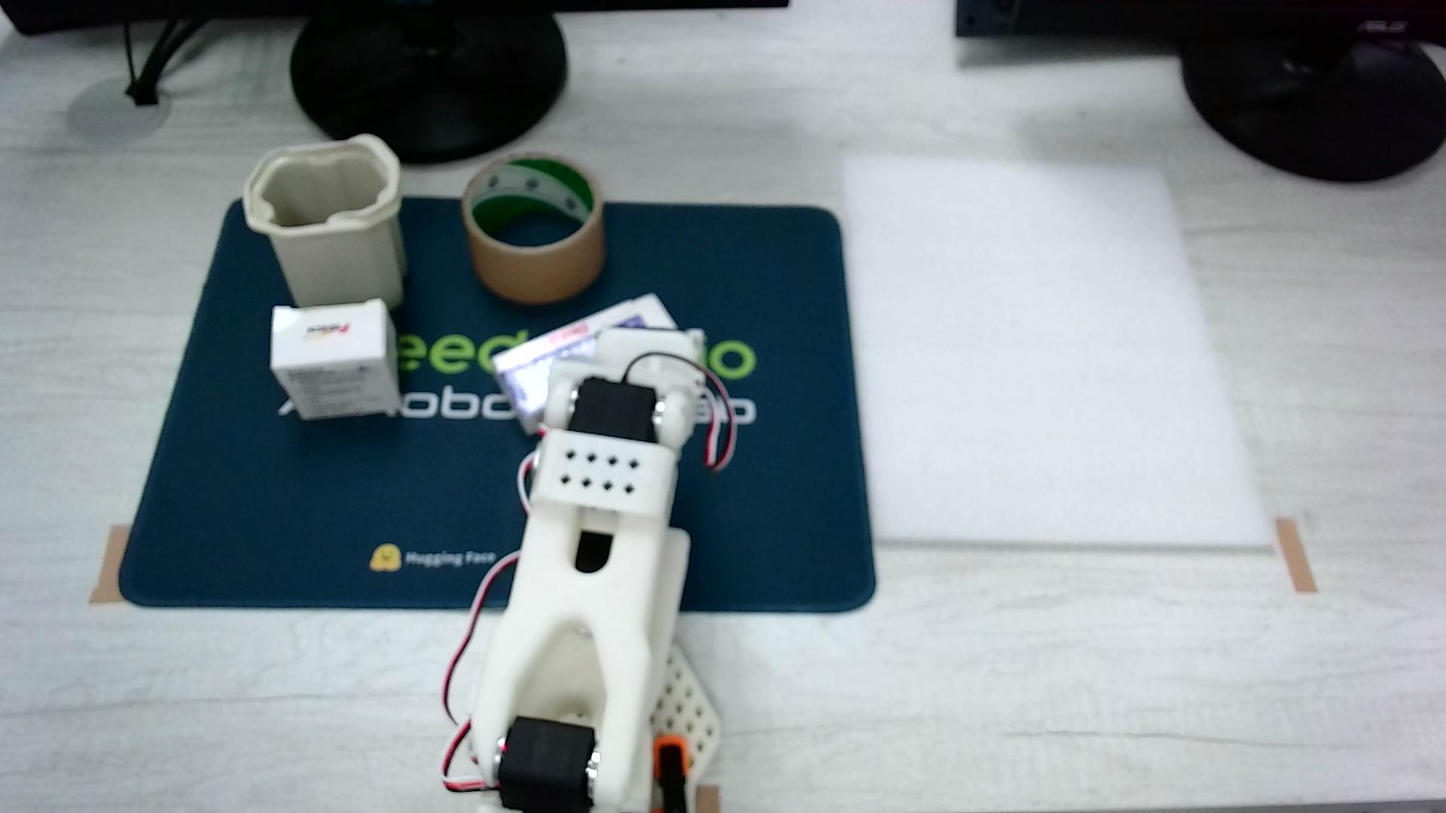eraser: (270, 299, 401, 419)
